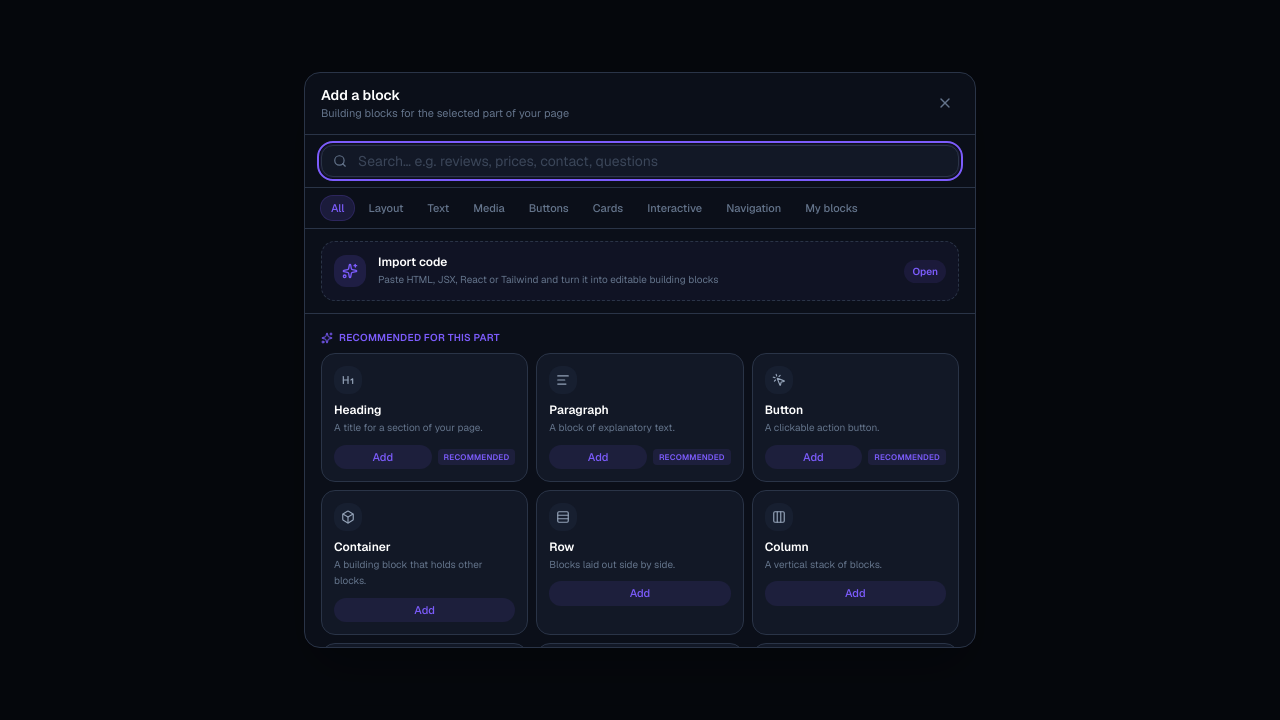
Test: BlockBrowserDialog › shows a friendly empty state for unknown search terms
Type "zzzzzz" into the search field with test id "block-browser-search".
click(640, 160); type("zzzzzz")  # box [321,144,959,176]
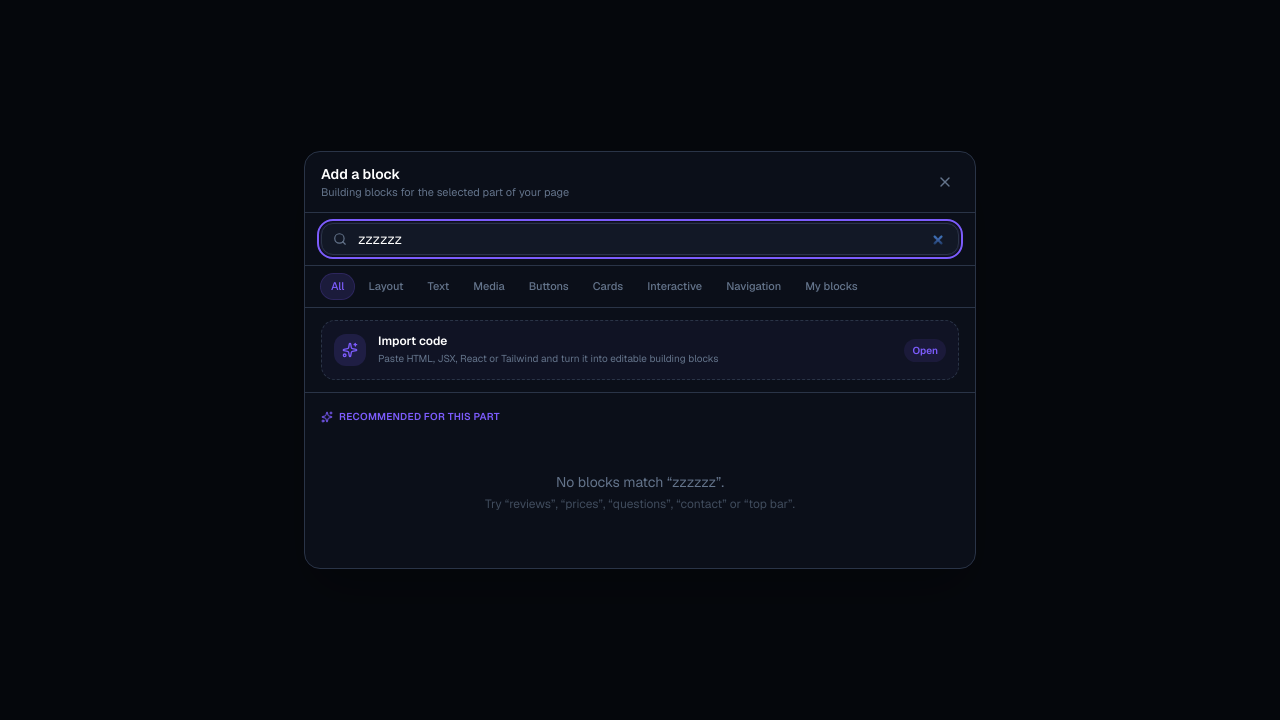
expect the text "No blocks match “zzzzzz”." is shown: met, box [556,473,724,491]
